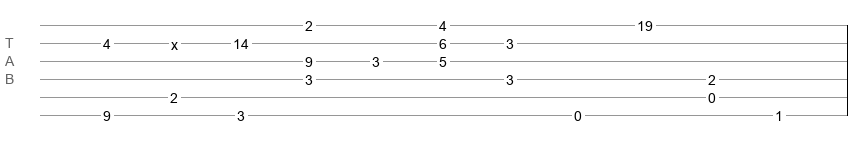0: (574, 108, 582, 118), (708, 90, 716, 100)
1: (775, 108, 783, 118)
14: (233, 36, 249, 46)
19: (637, 18, 653, 28)
2: (170, 90, 178, 100), (305, 18, 313, 28), (708, 72, 716, 82)
3: (237, 108, 245, 118), (305, 72, 313, 82), (372, 54, 380, 64), (506, 36, 514, 46), (506, 72, 514, 82)
4: (103, 36, 111, 46), (439, 18, 447, 28)
5: (439, 54, 447, 64)
6: (439, 36, 447, 46)
9: (103, 108, 111, 118), (305, 54, 313, 64)
x: (171, 37, 178, 45)
